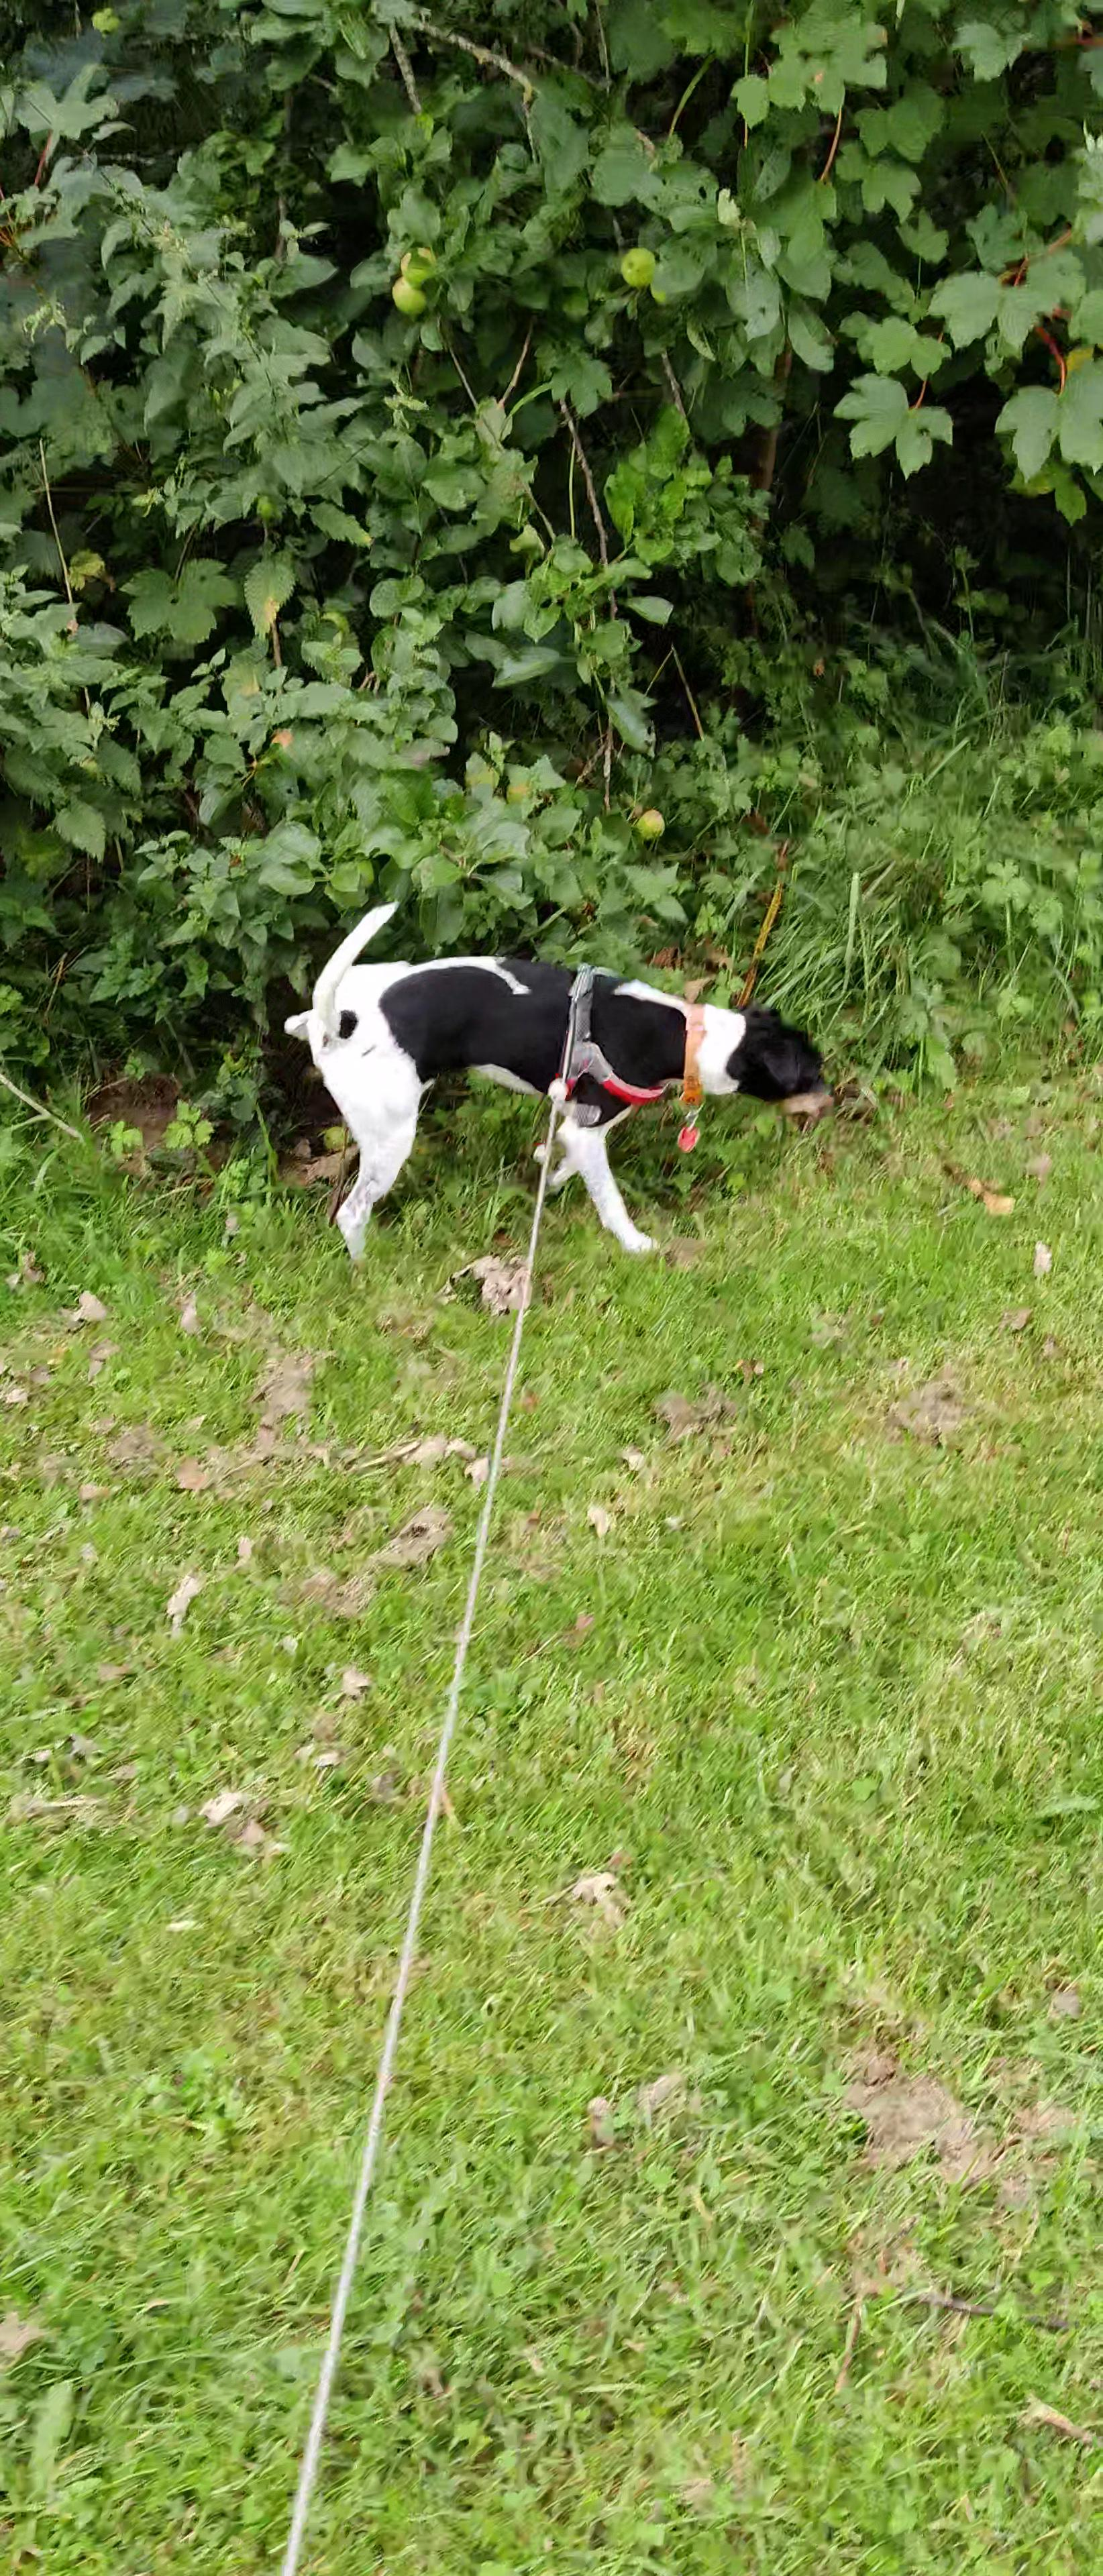Dog: (278, 895, 838, 1272)
